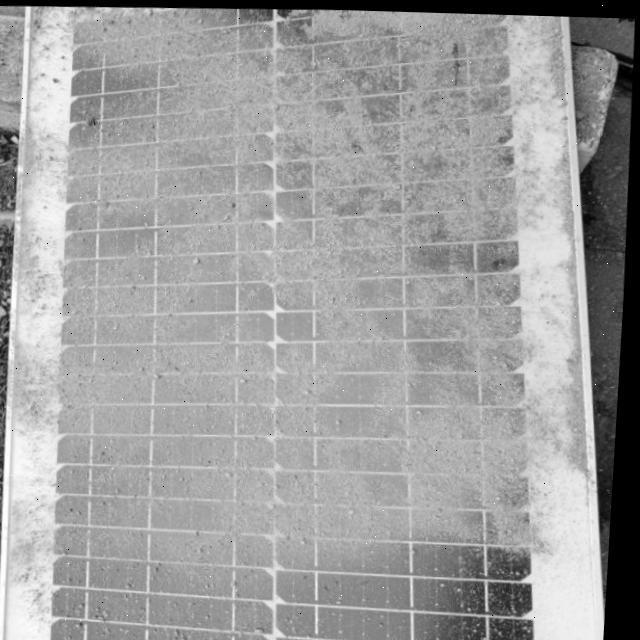Anomaly Solar Panel: (0, 0, 559, 570)
Surface Contaminant: (4, 6, 549, 561)
